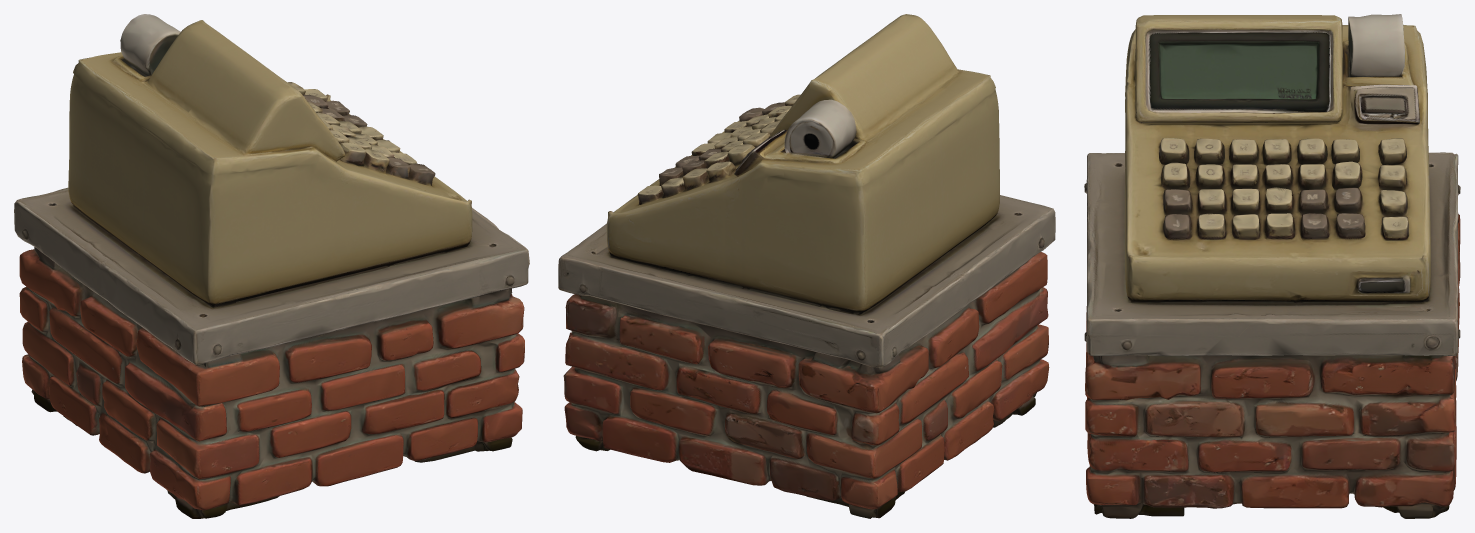
Rendered from register.glb.
3 views of the same model, side by side, from view 1: azimuth 30°, elevation 25°; view 2: azimuth 150°, elevation 25°; view 3: azimuth 270°, elevation 25° (orthographic). The views are drawn at different scales.
Parts seen in each view (by area): view 1: tripo_node_682faec1-a716-497d-aafe-8396bf543806; view 2: tripo_node_682faec1-a716-497d-aafe-8396bf543806; view 3: tripo_node_682faec1-a716-497d-aafe-8396bf543806.
Part boxes in pixels (x1,y1,x2,y2): tripo_node_682faec1-a716-497d-aafe-8396bf543806: (14, 14, 529, 518); tripo_node_682faec1-a716-497d-aafe-8396bf543806: (558, 14, 1055, 518); tripo_node_682faec1-a716-497d-aafe-8396bf543806: (1084, 14, 1460, 518).
Bounding box in the file's own units: 0.455 × 0.5 × 0.4241.
1 material, 1 textured.
